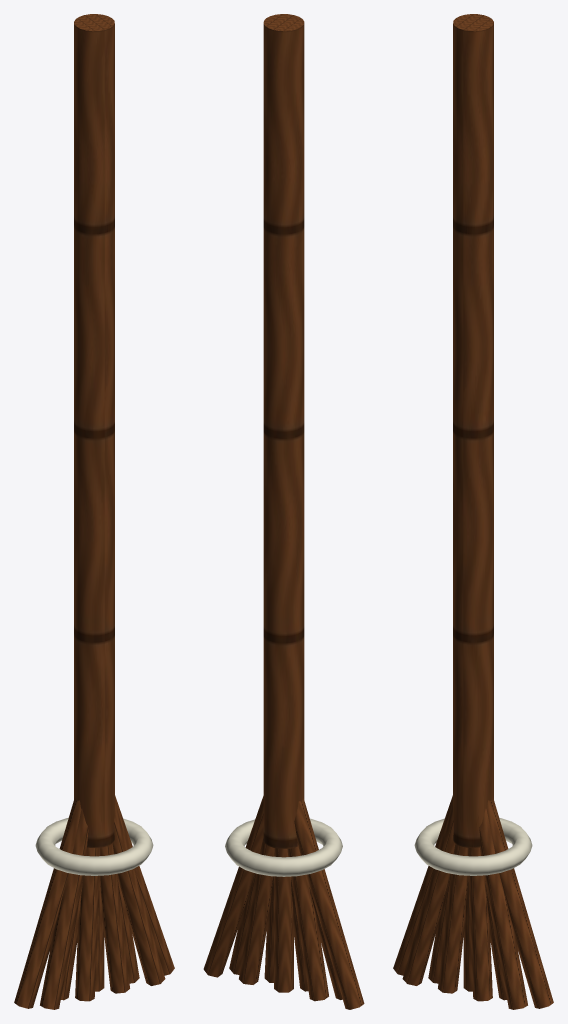
File: wilderness-survival-camp-branch-broom-a36e0591__21974.glb
The picture shows the model from 3 angles, left to right: view 1: azimuth 30°, elevation 25°; view 2: azimuth 150°, elevation 25°; view 3: azimuth 330°, elevation 25°; orthographic projection.
Parts seen in each view (by area): view 1: branch-broom; view 2: branch-broom; view 3: branch-broom.
Boxes of the visible parts, left/top/right/bottom form: branch-broom: left=14, top=14, right=174, bottom=1009; branch-broom: left=203, top=14, right=364, bottom=1009; branch-broom: left=393, top=14, right=553, bottom=1009.
Bounding box in the file's own units: 0.2197 × 1.3 × 0.144.
2 materials, 1 textured.
